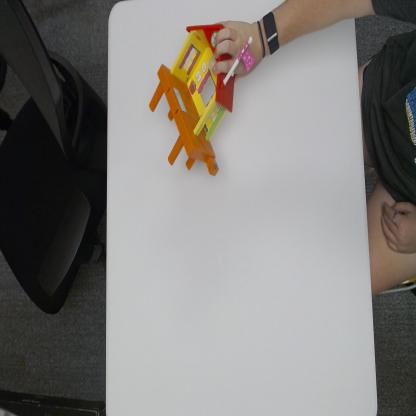Arm: (276, 1, 383, 44)
Hand: (214, 18, 265, 72)
House: (150, 22, 253, 178)
